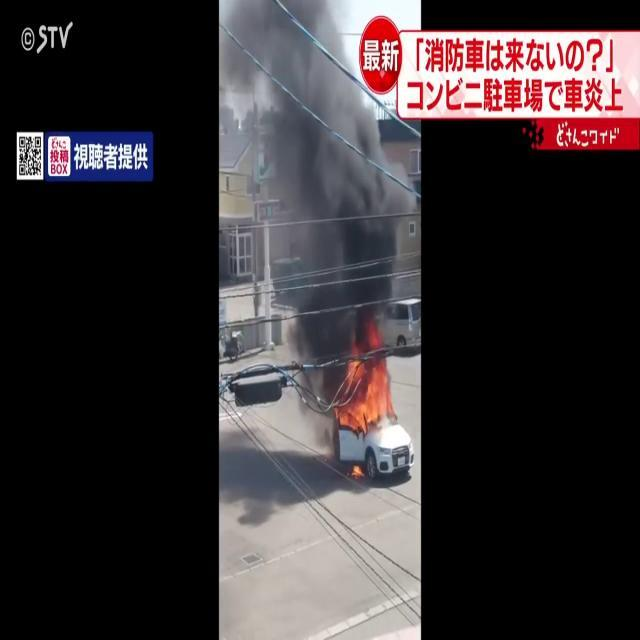Fire: (338, 344, 398, 437)
Smoke: (220, 0, 410, 364)
